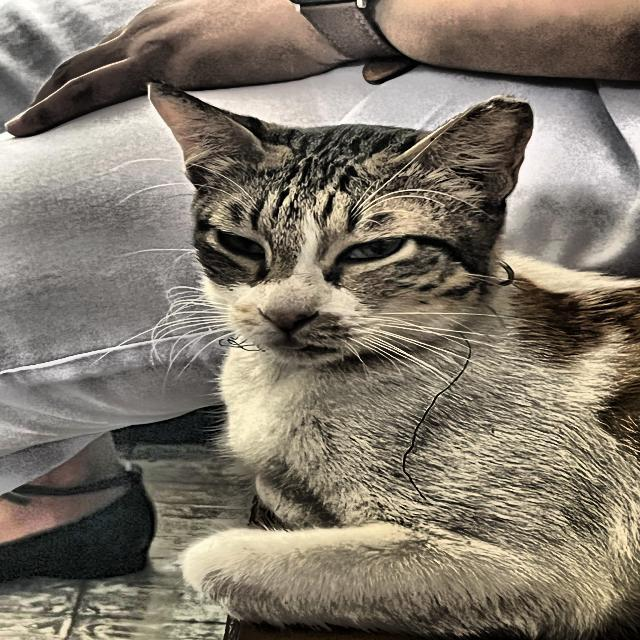Healthy skin: (142, 90, 530, 236), (266, 288, 459, 391)
